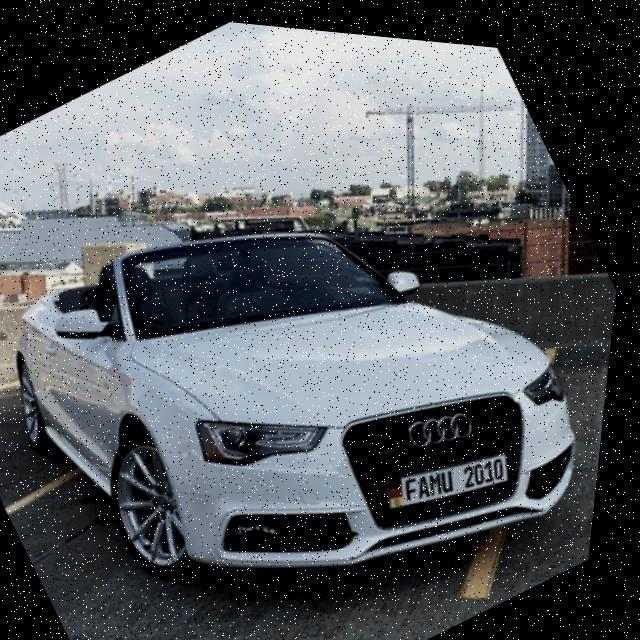license_plate: (393, 407, 532, 529)
